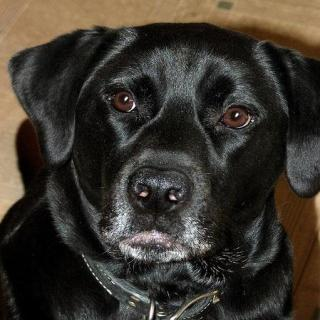dog: (7, 14, 320, 273)
nose: (125, 168, 193, 216)
